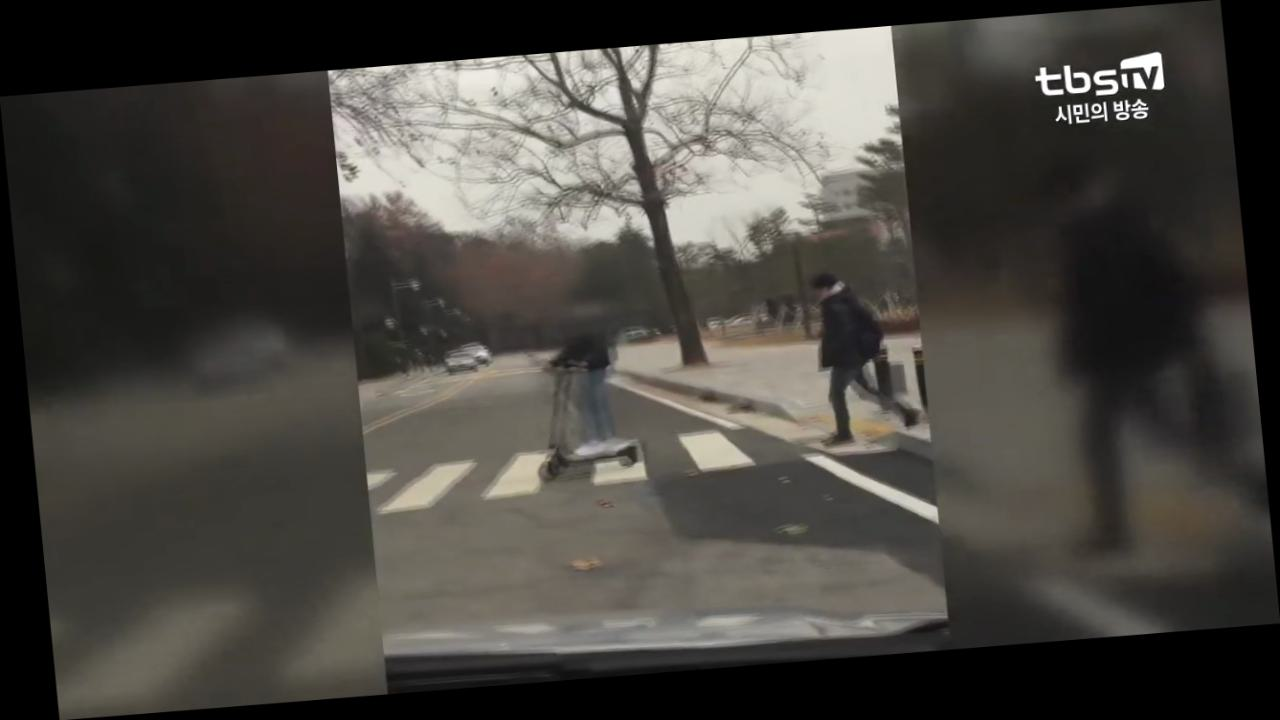nonhelmet: (515, 293, 650, 480)
